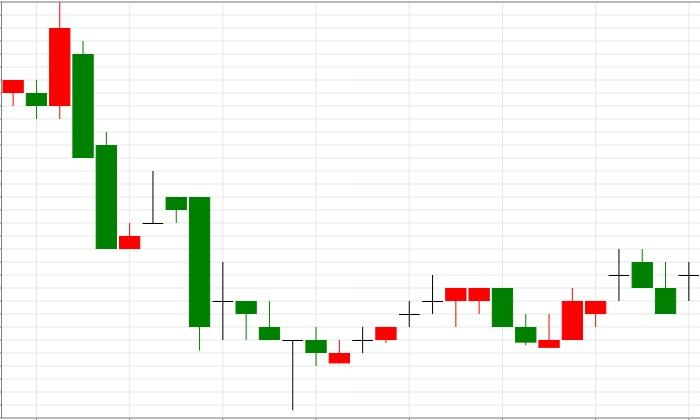bearish_engulfing_fall: (329, 274, 513, 364)
